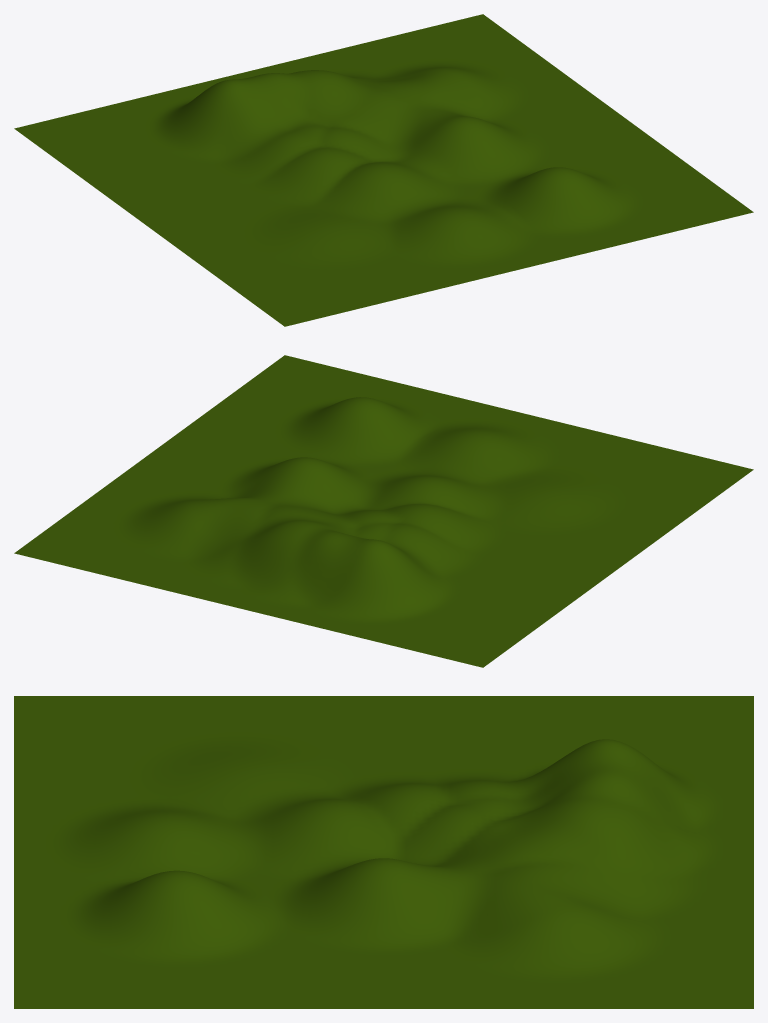
Rendered from groundPlane.fbx.
The picture shows the model from 3 angles, top to bottom: view 1: azimuth 30°, elevation 25°; view 2: azimuth 150°, elevation 25°; view 3: azimuth 270°, elevation 25°; orthographic projection. The views are drawn at different scales.
Parts seen in each view (by area): view 1: groundPlane; view 2: groundPlane; view 3: groundPlane.
Part boxes in pixels (x1,y1,x2,y2): groundPlane: [14, 14, 753, 326]; groundPlane: [14, 355, 753, 667]; groundPlane: [14, 696, 753, 1008].
Bounding box in the file's own units: 200 × 18.75 × 200.
